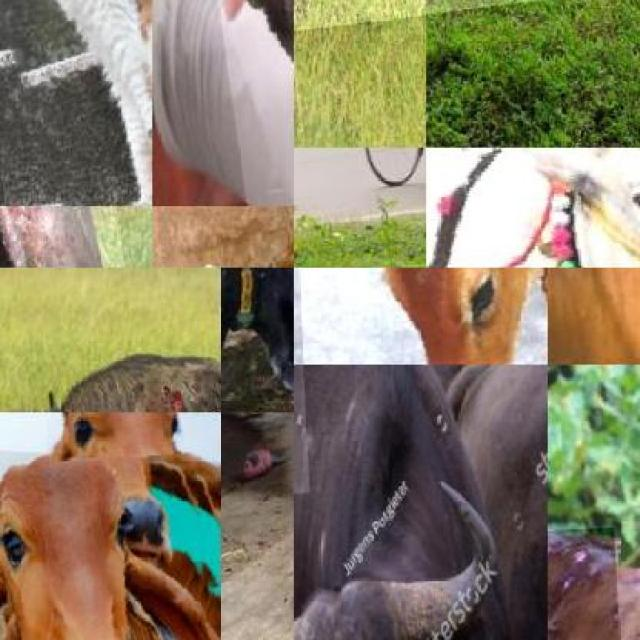buffalo: (0, 356, 220, 412), (294, 0, 426, 51)
cat: (0, 0, 152, 206), (191, 0, 294, 206)
cow: (0, 447, 220, 640), (38, 412, 220, 596), (426, 148, 640, 268), (294, 268, 548, 364)
injured: (548, 526, 622, 640), (0, 206, 68, 268), (138, 368, 220, 412)
